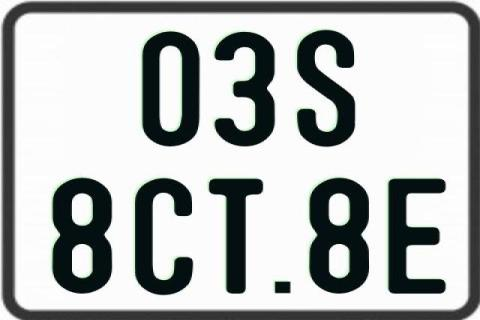0: (308, 176, 371, 296), (212, 29, 274, 145), (52, 176, 112, 293), (141, 31, 200, 149)
C: (134, 179, 194, 295)
E: (385, 176, 447, 293)
S: (296, 28, 357, 146)
T: (207, 176, 266, 292)
